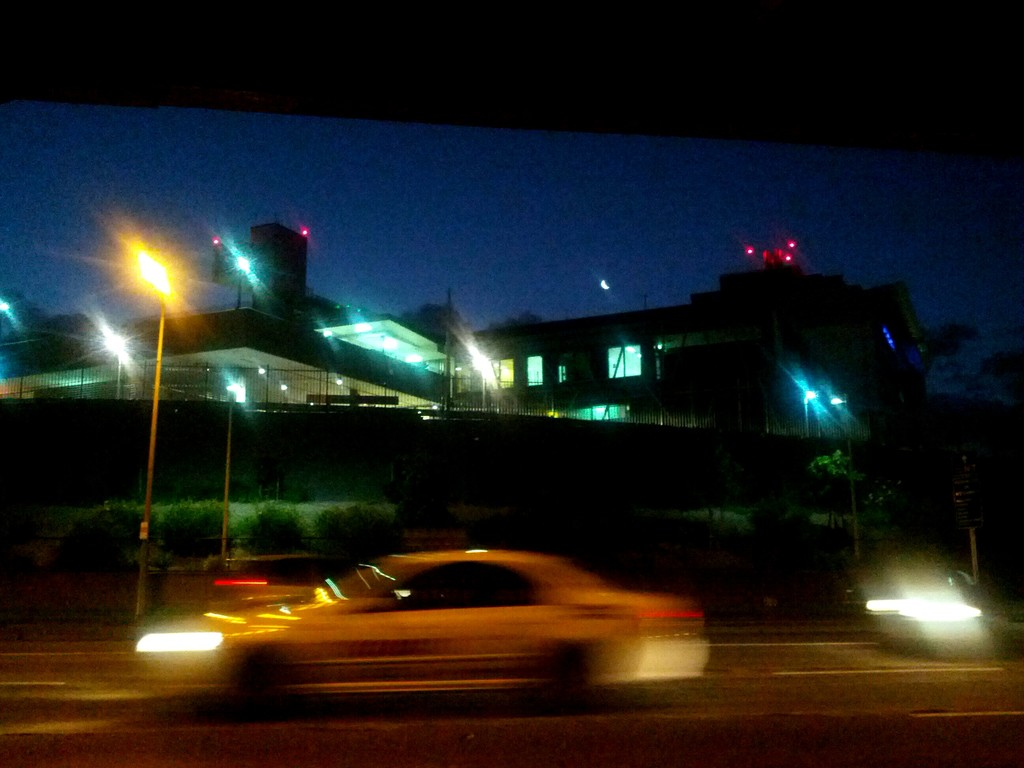Car: (145, 546, 775, 717)
